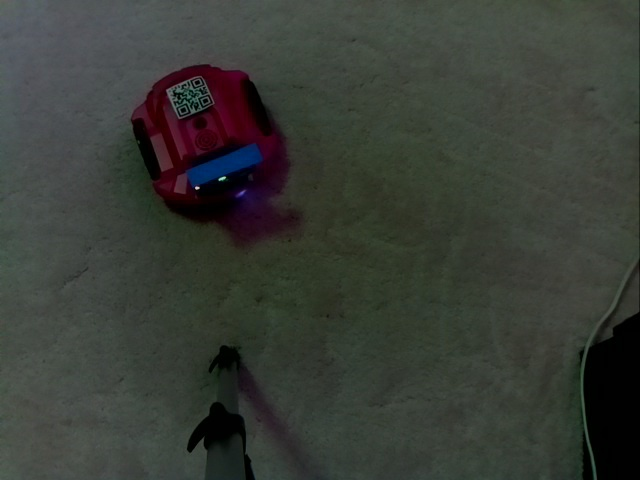chassis: (126, 60, 299, 217)
qr: (164, 74, 214, 119)
